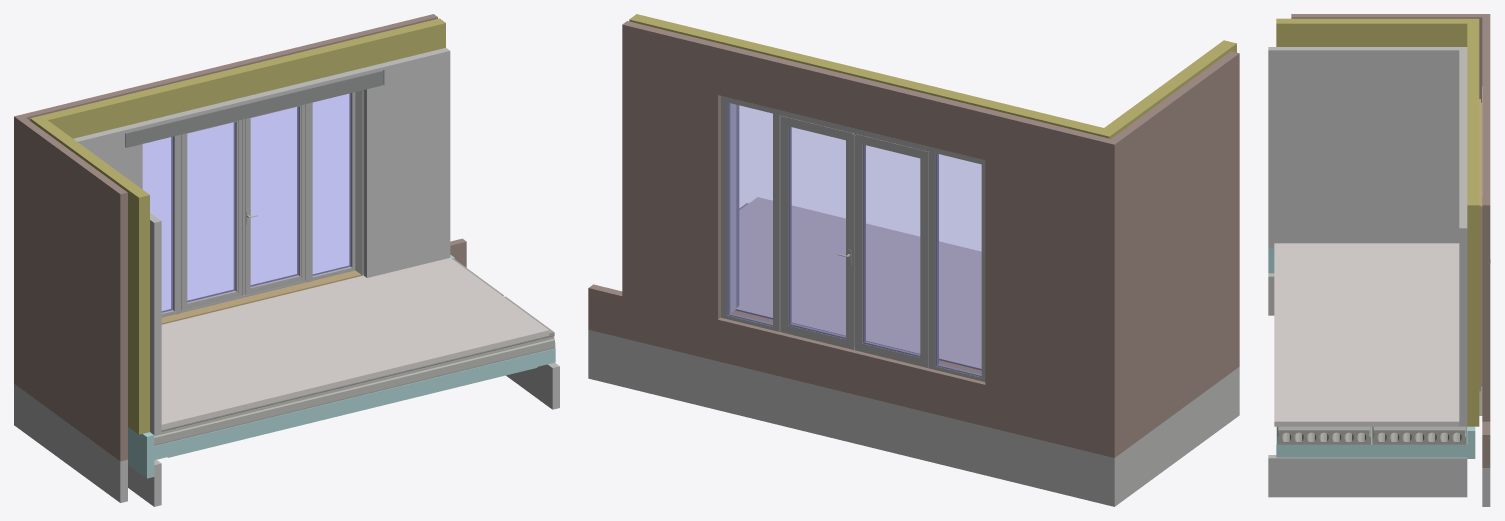
The picture shows the model from 3 angles, left to right: view 1: azimuth 30°, elevation 25°; view 2: azimuth 150°, elevation 25°; view 3: azimuth 270°, elevation 25°; orthographic projection. The views are drawn at different scales.
Visible parts, largest first — view 1: [3324345]43_zandcementvloer_70, [3324333]21_metselwerk_oranje_100, [3324284]21_kalkzandsteen_100, [3324305]buitendraaiend_alcoa, [3324286]21_isolatie_mineraal_150, [3324358]kanaalplaat_VBI_Q200_b 1200, [3324334]21_isolatie_mineraal_150, [3324308]vast glas_alcoa, [3324290]28_beton_latei_vebo_100x185, [3324360]21_metselwerk_oranje_100, [3324287]21_metselwerk_oranje_100, [3324303]vast glas_alcoa (+17 smaller); view 2: [3324287]21_metselwerk_oranje_100, [3324333]21_metselwerk_oranje_100, [3324339]21_kalkzandsteen_100, [3324338]21_metselwerk_oranje_100, [3324305]buitendraaiend_alcoa, [3324345]43_zandcementvloer_70, [3324303]vast glas_alcoa, [3324308]vast glas_alcoa, [3324360]21_metselwerk_oranje_100, [3324286]21_isolatie_mineraal_150, [3324361]21_kalkzandsteen_100, [3324355]21_kalkzandsteen_100 (+14 smaller); view 3: [3324335]21_kalkzandsteen_100, [3324345]43_zandcementvloer_70, [3324362]21_kalkzandsteen_100, [3324334]21_isolatie_mineraal_150, [3324286]21_isolatie_mineraal_150, [3324287]21_metselwerk_oranje_100, [3324284]21_kalkzandsteen_100, [3324356]kanaalplaat_VBI_Q200_b 1200, [3324358]kanaalplaat_VBI_Q200_b 1200, [3324333]21_metselwerk_oranje_100, [3324292]stijl, [3324338]21_metselwerk_oranje_100 (+5 smaller).
Part boxes in pixels (bbox=[...]): [3324345]43_zandcementvloer_70: bbox=[161, 258, 549, 429]; [3324333]21_metselwerk_oranje_100: bbox=[18, 118, 127, 425]; [3324284]21_kalkzandsteen_100: bbox=[73, 48, 450, 277]; [3324305]buitendraaiend_alcoa: bbox=[187, 107, 298, 301]; [3324286]21_isolatie_mineraal_150: bbox=[30, 18, 445, 138]; [3324358]kanaalplaat_VBI_Q200_b 1200: bbox=[154, 296, 555, 460]; [3324334]21_isolatie_mineraal_150: bbox=[36, 120, 149, 434]; [3324308]vast glas_alcoa: bbox=[313, 94, 350, 275]; [3324290]28_beton_latei_vebo_100x185: bbox=[125, 70, 383, 147]; [3324360]21_metselwerk_oranje_100: bbox=[18, 351, 127, 461]; [3324287]21_metselwerk_oranje_100: bbox=[14, 14, 437, 350]; [3324303]vast glas_alcoa: bbox=[143, 137, 172, 312]; [3324287]21_metselwerk_oranje_100: bbox=[622, 21, 1119, 416]; [3324333]21_metselwerk_oranje_100: bbox=[1111, 51, 1239, 412]; [3324339]21_kalkzandsteen_100: bbox=[588, 329, 1119, 506]; [3324338]21_metselwerk_oranje_100: bbox=[588, 284, 1119, 457]; [3324305]buitendraaiend_alcoa: bbox=[789, 127, 919, 356]; [3324345]43_zandcementvloer_70: bbox=[735, 197, 981, 370]; [3324303]vast glas_alcoa: bbox=[936, 154, 981, 376]; [3324308]vast glas_alcoa: bbox=[727, 103, 772, 325]; [3324360]21_metselwerk_oranje_100: bbox=[1119, 325, 1239, 453]; [3324286]21_isolatie_mineraal_150: bbox=[629, 14, 1116, 138]; [3324361]21_kalkzandsteen_100: bbox=[1173, 367, 1239, 463]; [3324355]21_kalkzandsteen_100: bbox=[1119, 415, 1173, 502]; [3324335]21_kalkzandsteen_100: bbox=[1268, 47, 1459, 248]; [3324345]43_zandcementvloer_70: bbox=[1274, 243, 1459, 426]; [3324362]21_kalkzandsteen_100: bbox=[1268, 455, 1459, 497]; [3324334]21_isolatie_mineraal_150: bbox=[1276, 18, 1467, 46]; [3324286]21_isolatie_mineraal_150: bbox=[1467, 18, 1479, 426]; [3324287]21_metselwerk_oranje_100: bbox=[1482, 14, 1490, 421]; [3324284]21_kalkzandsteen_100: bbox=[1459, 47, 1467, 426]; [3324356]kanaalplaat_VBI_Q200_b 1200: bbox=[1371, 426, 1467, 457]; [3324358]kanaalplaat_VBI_Q200_b 1200: bbox=[1276, 426, 1371, 457]; [3324333]21_metselwerk_oranje_100: bbox=[1291, 14, 1482, 102]; [3324292]stijl: bbox=[1479, 208, 1482, 386]; [3324338]21_metselwerk_oranje_100: bbox=[1482, 421, 1490, 467].
Bounding box in the file's own units: 6.08 × 4 × 2.79.
